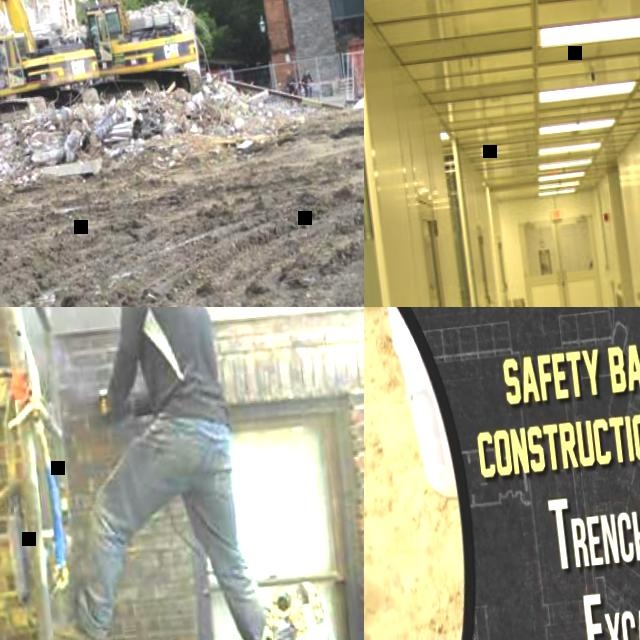NO-Safety Vest: (127, 307, 233, 439), (287, 76, 296, 89), (303, 74, 310, 86)
Person: (0, 307, 295, 640), (300, 70, 316, 99), (284, 70, 297, 95)
machinery: (0, 0, 203, 116), (0, 0, 102, 132)
